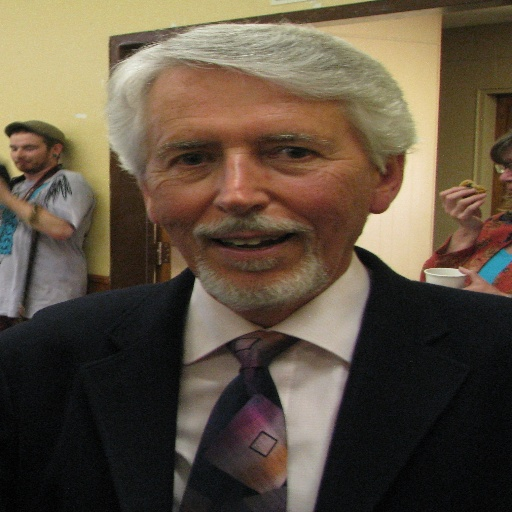hand: (446, 174, 501, 226), (454, 266, 502, 295)
